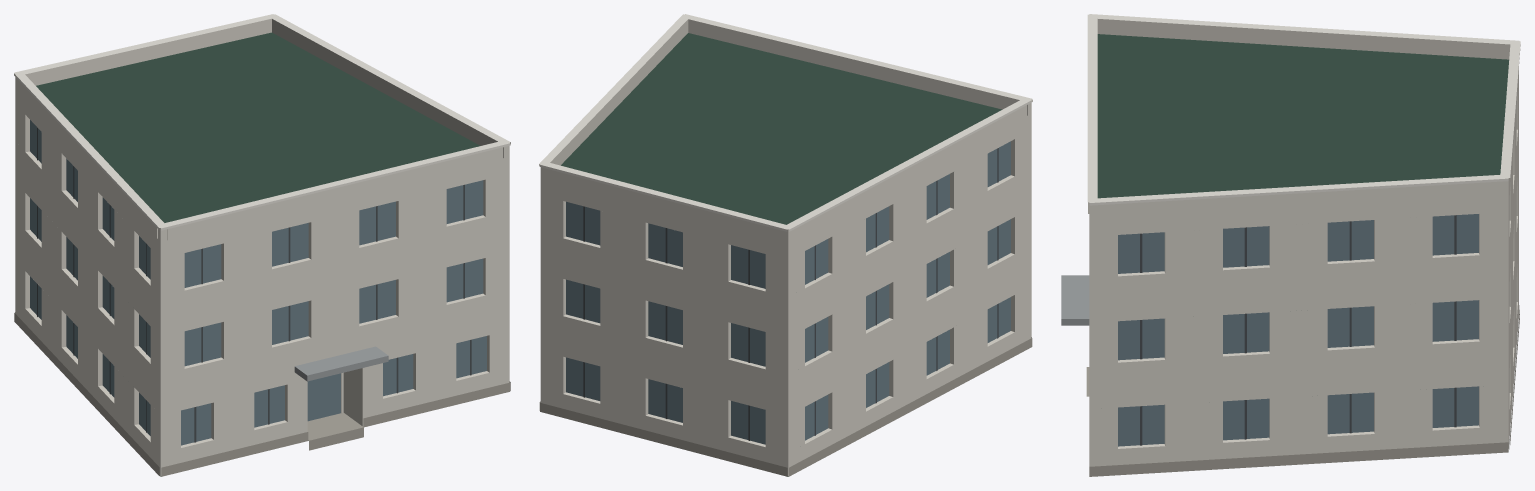
3 views of the same model, side by side, from view 1: azimuth 30°, elevation 25°; view 2: azimuth 150°, elevation 25°; view 3: azimuth 270°, elevation 25° (orthographic). The views are drawn at different scales.
Visible parts, largest first — view 1: unk1290__wall, unk1290__roof, unk1290__glass, unk1290__parapet, unk1290__trim, unk1290__base, unk1290__canopy, unk1290__frame; view 2: unk1290__wall, unk1290__roof, unk1290__glass, unk1290__parapet, unk1290__trim, unk1290__base, unk1290__frame; view 3: unk1290__wall, unk1290__roof, unk1290__glass, unk1290__parapet, unk1290__trim, unk1290__base, unk1290__canopy, unk1290__frame.
Boxes of the visible parts, left/top/right/bottom form: unk1290__wall: left=15, top=87, right=509, bottom=476; unk1290__roof: left=36, top=32, right=480, bottom=476; unk1290__glass: left=30, top=120, right=486, bottom=445; unk1290__parapet: left=15, top=18, right=509, bottom=241; unk1290__trim: left=14, top=14, right=510, bottom=230; unk1290__base: left=14, top=312, right=510, bottom=476; unk1290__canopy: left=294, top=346, right=388, bottom=381; unk1290__frame: left=37, top=127, right=471, bottom=442; unk1290__wall: left=540, top=113, right=1031, bottom=476; unk1290__roof: left=561, top=33, right=1001, bottom=476; unk1290__glass: left=566, top=141, right=1010, bottom=444; unk1290__parapet: left=540, top=19, right=1031, bottom=242; unk1290__trim: left=539, top=14, right=1032, bottom=231; unk1290__base: left=539, top=337, right=1032, bottom=476; unk1290__frame: left=583, top=148, right=998, bottom=440; unk1290__wall: left=1089, top=68, right=1518, bottom=466; unk1290__roof: left=1097, top=34, right=1509, bottom=198; unk1290__glass: left=1118, top=214, right=1478, bottom=446; unk1290__parapet: left=1088, top=19, right=1510, bottom=217; unk1290__trim: left=1087, top=14, right=1520, bottom=205; unk1290__base: left=1086, top=305, right=1519, bottom=476; unk1290__canopy: left=1061, top=275, right=1089, bottom=325; unk1290__frame: left=1140, top=215, right=1456, bottom=445.
Bounding box in the file's own units: 15.98 × 11.2 × 16.41.
